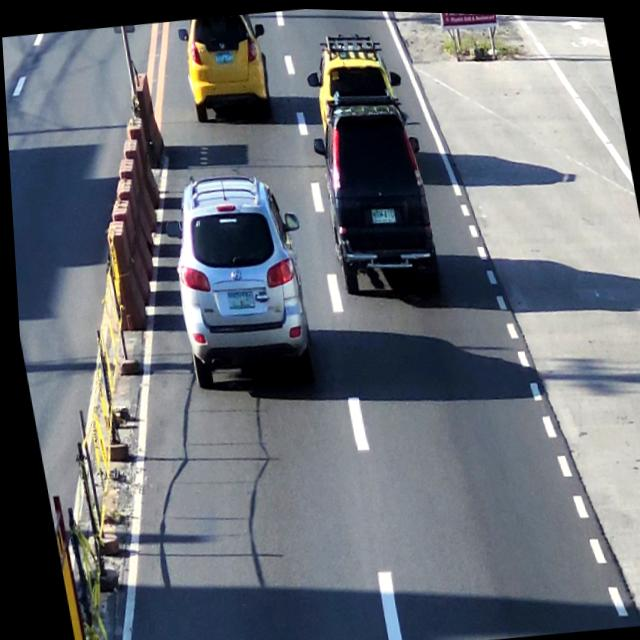Car: (155, 164, 319, 396), (312, 92, 441, 305), (176, 9, 277, 120), (311, 30, 395, 101)
License-Plate: (222, 287, 251, 311), (368, 204, 396, 224), (213, 47, 232, 63)
